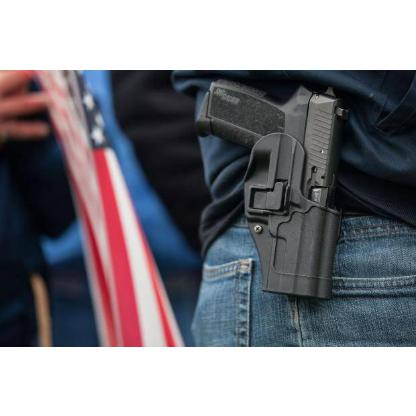gun: (197, 75, 345, 298)
